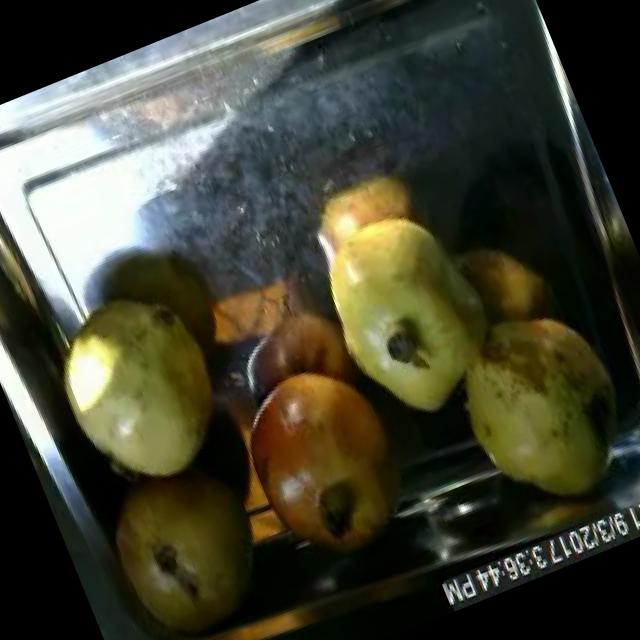fruit: (284, 170, 530, 448), (424, 271, 640, 543), (208, 334, 435, 586), (32, 262, 254, 508), (82, 443, 290, 640)
